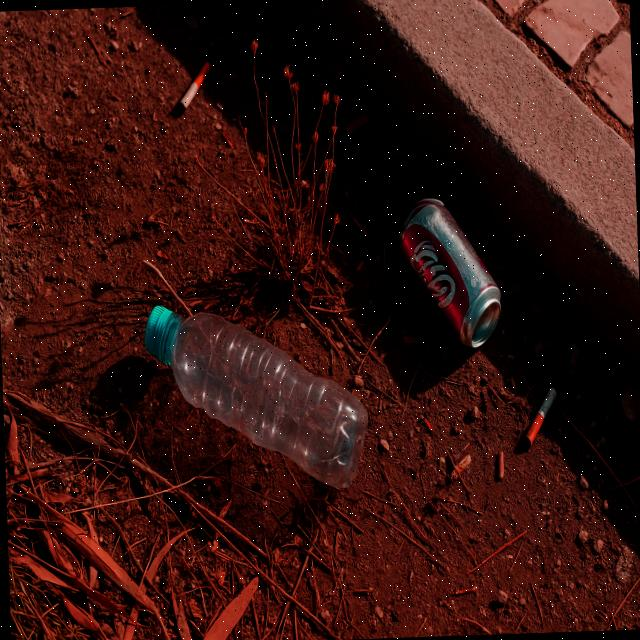aluminum: (394, 192, 504, 350)
plastic: (144, 296, 372, 501)
